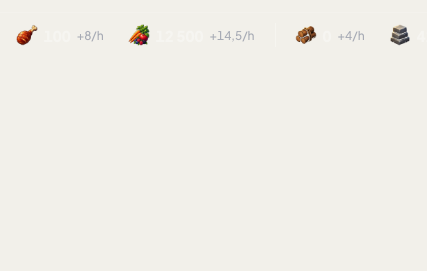
Test case: ressources dans la barre du haut (US-0204) › dit le groupe de la ressource dans la bulle, sous son nom (US-0205)
Click the button named "Végétaux".
click(191, 35)  # box [120,13,263,57]
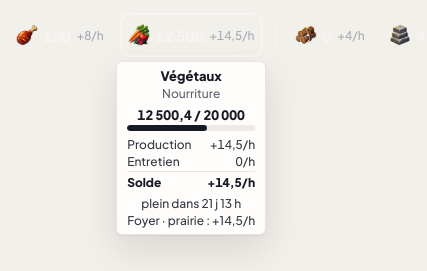
Check: the text "Végétaux" is shown, box [160,68,222,84]
Check: the text "Nourriture" is shown, box [162,86,220,101]
